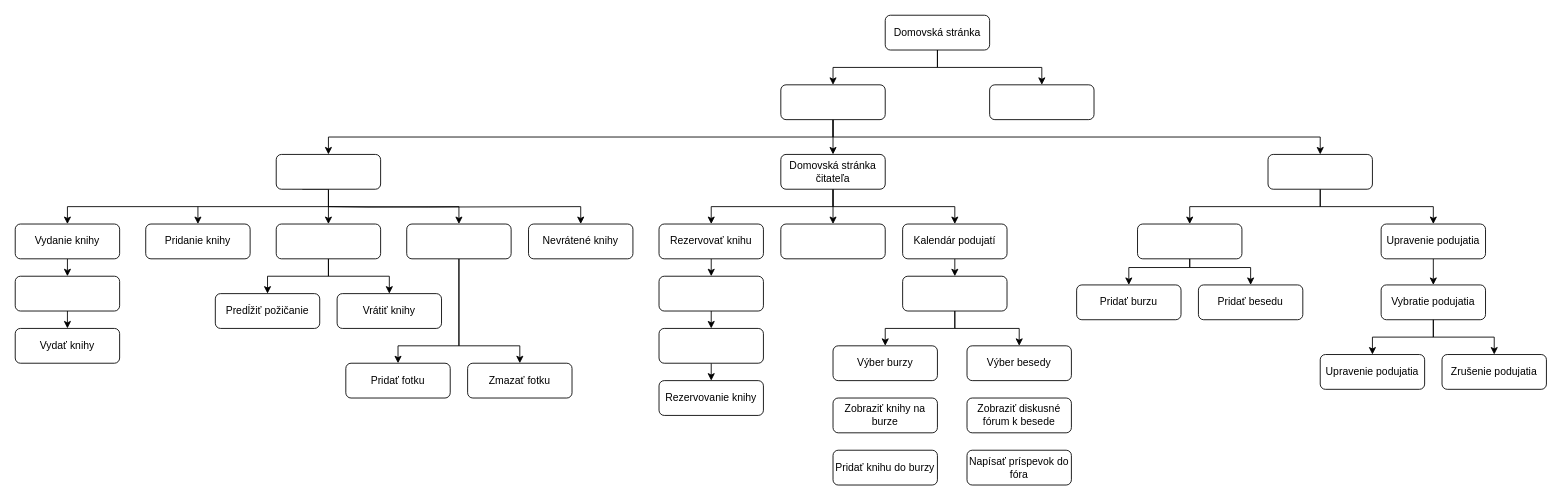
The diagram is 1562 pixels wide and 500 high, and some of its shapes have lost their labels. Each missing label, with the centre of its shape:
Domovská stránka knihovníka: [328,171]
Domovská stránka organizátora: [1319,171]
História požičaných kníh: [832,241]
Pridanie podujatia: [1189,241]
Prihlásenie sa: [832,102]
Registrácia: [1041,102]
Upravenie miestnosti: [458,241]
Vrátenie kníh: [328,241]
Vyber čitateľa: [67,293]
Výber dátumov rezervácie: [710,345]
Výber knihy: [710,293]
Výber podujatia: [954,293]
